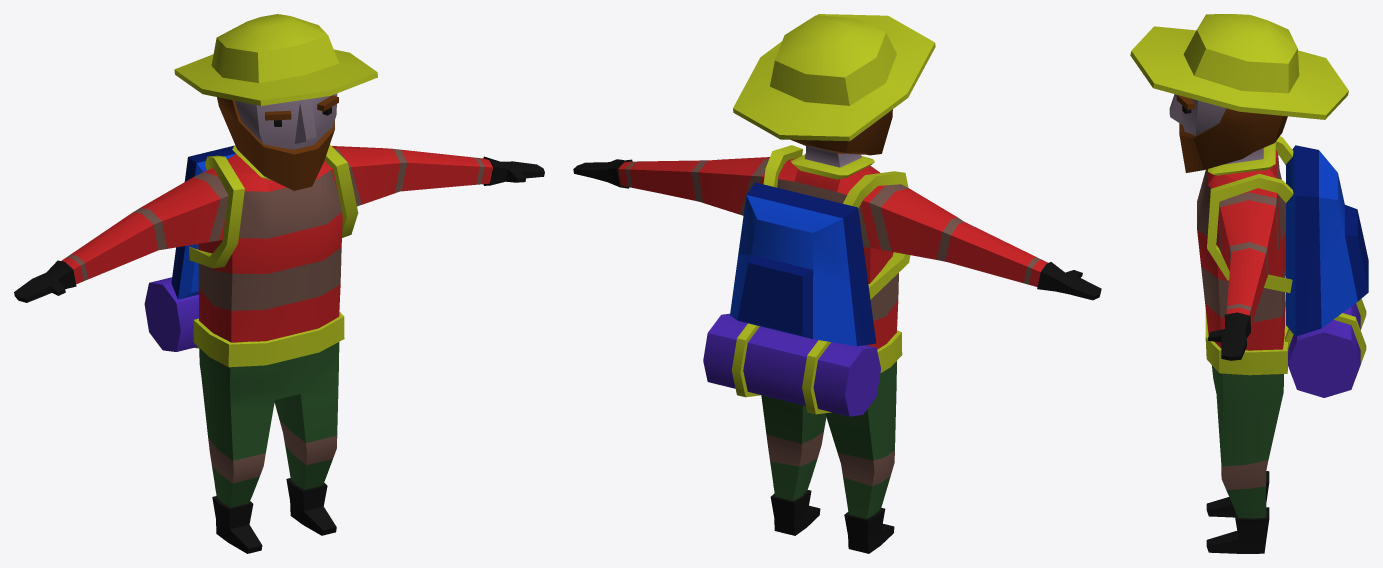
File: campistModel.fbx
3 renders of one model, left to right at view 1: azimuth 30°, elevation 25°; view 2: azimuth 150°, elevation 25°; view 3: azimuth 270°, elevation 25°, orthographic.
Visible parts, largest first — view 1: campist; view 2: campist; view 3: campist.
Part boxes in pixels (x1=…): campist: x1=14, y1=14, x2=544, y2=553; campist: x1=573, y1=14, x2=1101, y2=553; campist: x1=1130, y1=14, x2=1368, y2=553.
Size of the model in its own units: 194 by 180 by 76.12.
